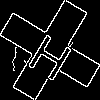H: (25, 25, 80, 83)
